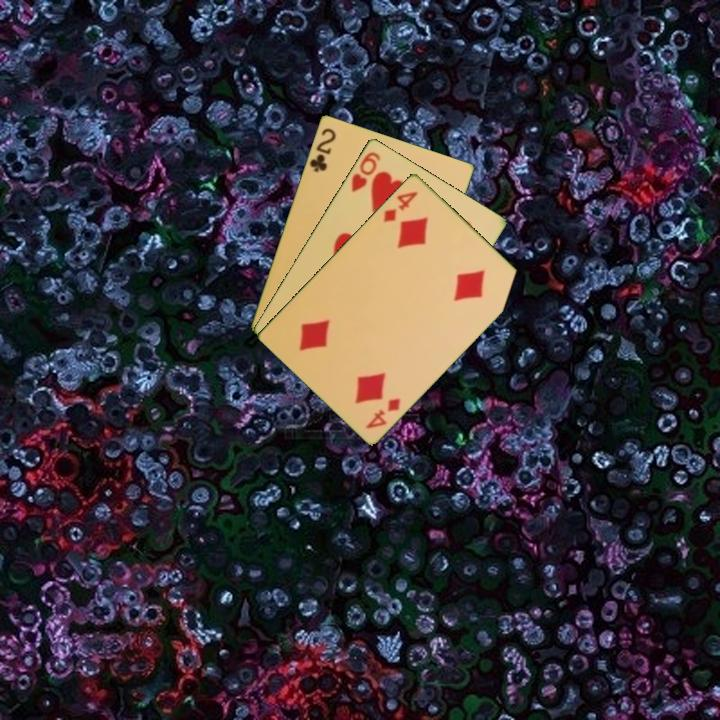2c: (306, 124, 339, 175)
4d: (380, 187, 421, 225), (362, 394, 403, 431)
6h: (348, 148, 383, 195)
